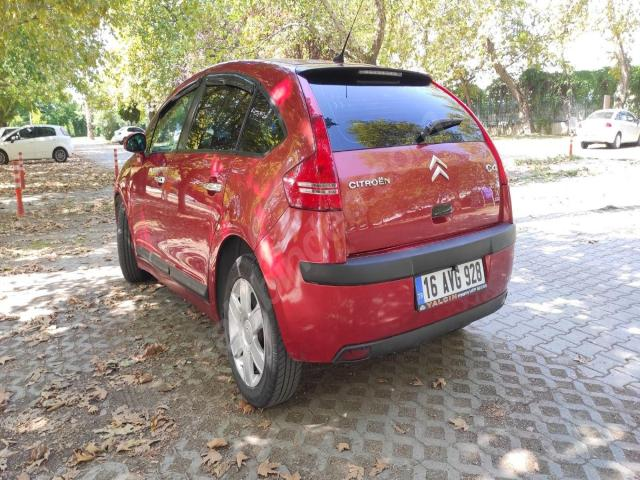plaka: (415, 259, 486, 310)
